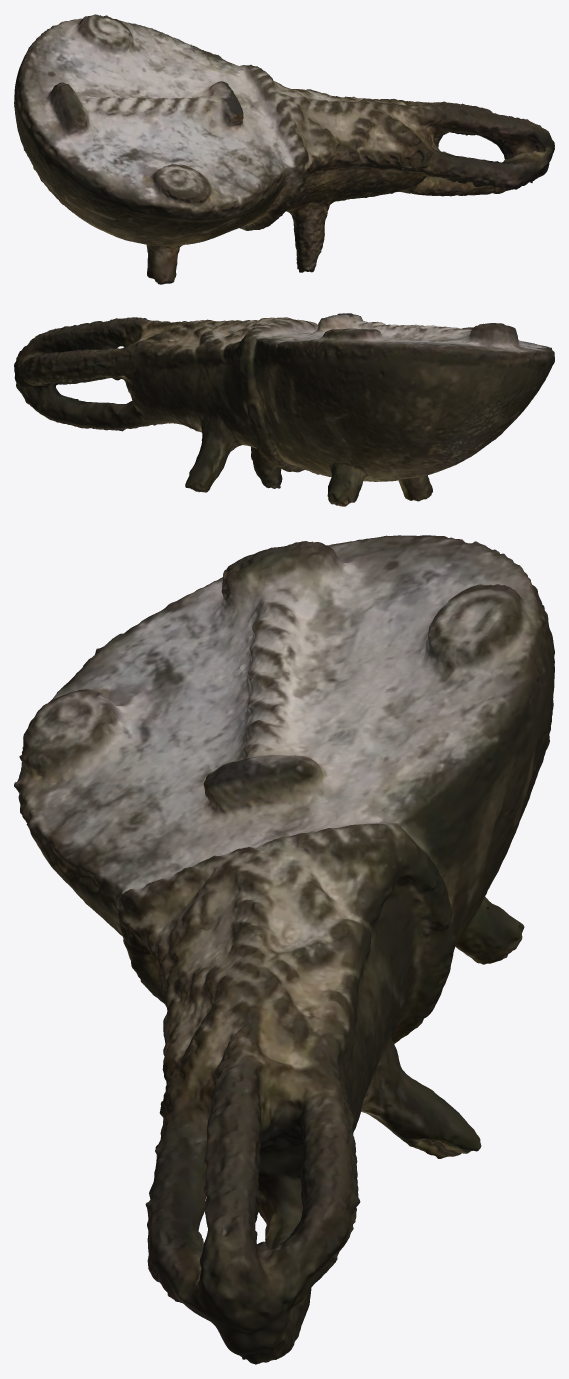
The model's file is preview.glb.
3 views of the same model, one above another, from view 1: azimuth 30°, elevation 25°; view 2: azimuth 150°, elevation 25°; view 3: azimuth 270°, elevation 25° (orthographic). The views are drawn at different scales.
Parts seen in each view (by area): view 1: Object_2; view 2: Object_2; view 3: Object_2.
Boxes of the visible parts, <box> form: Object_2: <box>14,14,554,284</box>; Object_2: <box>14,313,554,506</box>; Object_2: <box>14,535,554,1364</box>.
Size of the model in its own units: 58.33 by 26.36 by 27.29.
Materials: 1 (1 with a texture image).
